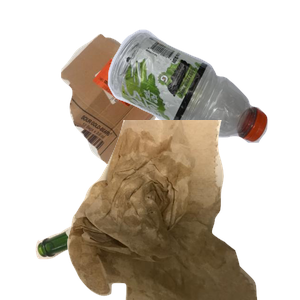cardboard: (58, 31, 222, 188)
glass: (33, 158, 246, 300)
plastic: (105, 27, 300, 162)
trash: (65, 120, 300, 300)
